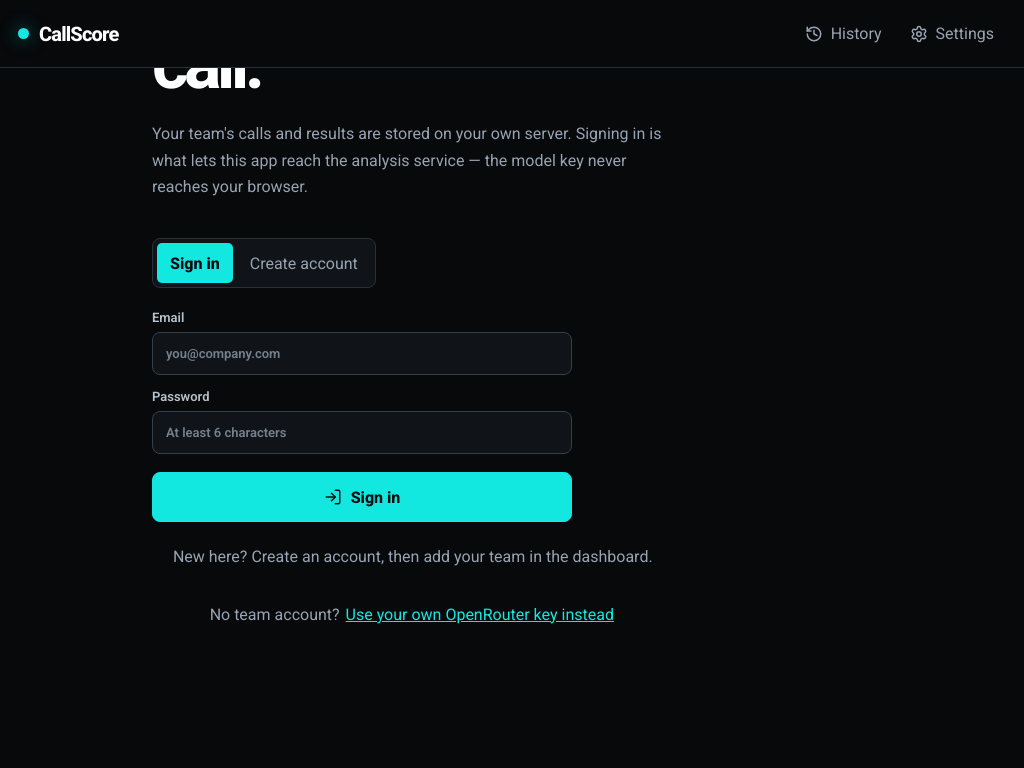
connection choice in the app › lets someone stuck at the gate switch back to their own key
The width and height of the screenshot is (1024, 768).
(page scrolled)
Click the button "Use your own OpenRouter key instead" at (480, 615), box x1=344 y1=593 x2=616 y2=637
(page scrolled)
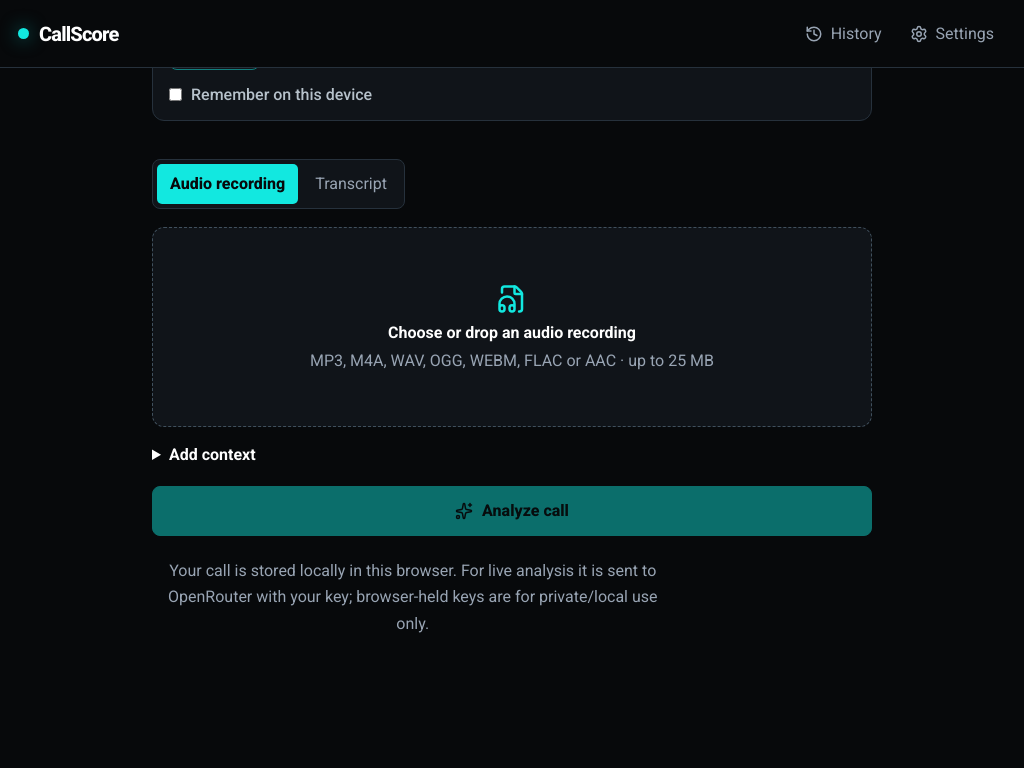
Check: the button "Analyze call" is shown, box x1=152 y1=486 x2=872 y2=536
